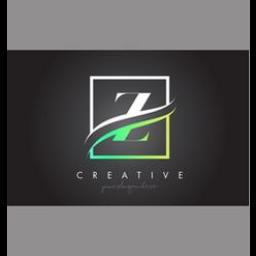a: (120, 170, 128, 182)
c: (74, 170, 86, 180)
e: (176, 171, 184, 181), (106, 170, 112, 182)
i: (150, 170, 154, 180)
r: (90, 170, 98, 180)
t: (133, 170, 143, 180)
v: (160, 170, 170, 180)
